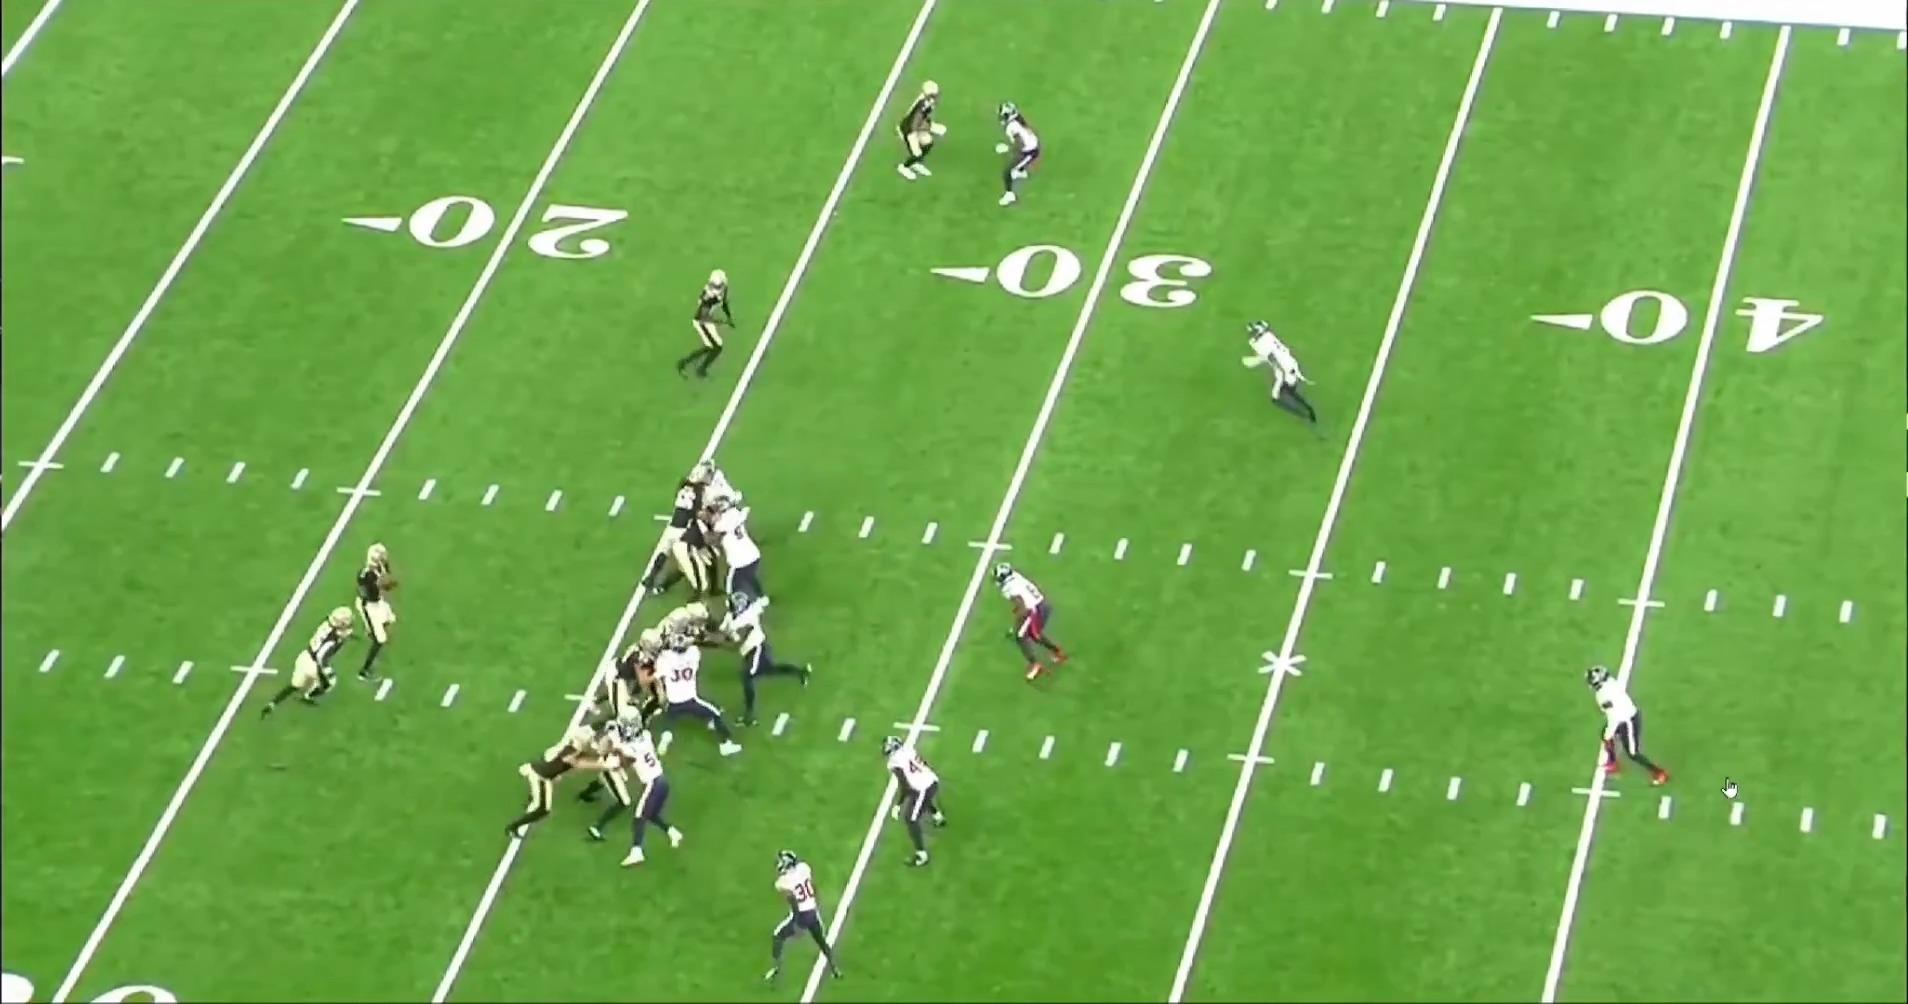defense: (1575, 661, 1672, 795), (644, 637, 743, 764), (722, 593, 820, 721), (758, 850, 848, 989), (611, 720, 693, 870), (989, 561, 1070, 687), (880, 732, 949, 872), (1239, 324, 1321, 433), (708, 503, 779, 612), (991, 96, 1047, 208), (678, 457, 748, 526)
oline: (639, 460, 717, 593), (596, 629, 676, 727), (668, 494, 729, 605), (671, 600, 743, 643), (655, 605, 695, 646)
qb: (348, 541, 408, 687)
skill: (262, 607, 361, 728), (498, 724, 594, 848), (584, 701, 644, 846), (681, 265, 750, 385), (892, 79, 951, 189)
